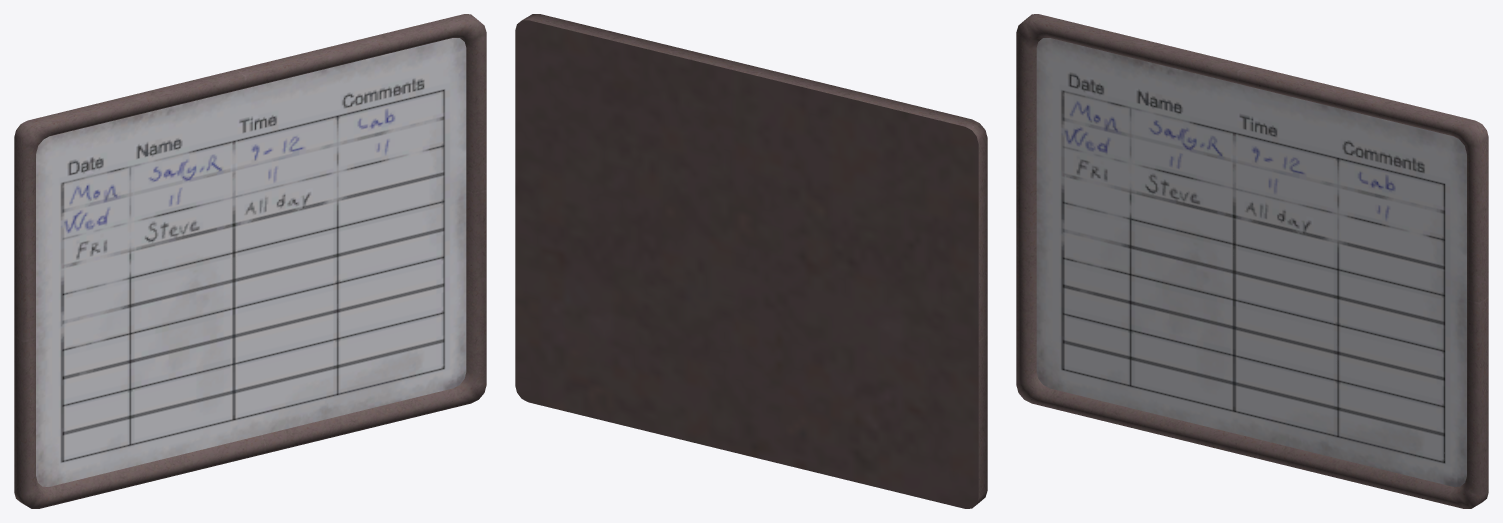
Rendered from schedule_board01.dae.
3 renders of one model, left to right at view 1: azimuth 30°, elevation 25°; view 2: azimuth 150°, elevation 25°; view 3: azimuth 330°, elevation 25°, orthographic.
Parts seen in each view (by area): view 1: pCube23; view 2: pCube23; view 3: pCube23.
Part boxes in pixels (left/top/right/bottom): pCube23: left=14, top=14, right=486, bottom=508; pCube23: left=515, top=14, right=987, bottom=508; pCube23: left=1016, top=14, right=1488, bottom=508.
Size of the model in its own units: 48.9 by 38.55 by 1.7.
Materials: 1 (1 with a texture image).
